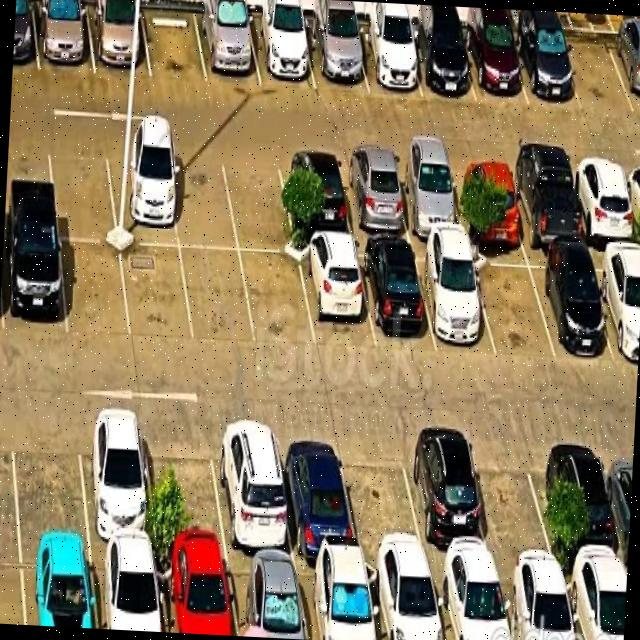Car: (404, 413, 496, 543), (273, 422, 366, 548), (3, 176, 76, 326), (215, 411, 292, 552), (538, 431, 626, 553), (374, 528, 462, 640), (421, 220, 496, 350), (436, 532, 525, 640), (538, 237, 620, 351), (19, 524, 108, 629), (168, 530, 255, 636), (231, 544, 327, 640), (515, 128, 594, 242), (89, 404, 158, 534), (295, 230, 376, 338), (505, 548, 600, 640), (356, 233, 436, 341), (121, 118, 187, 240), (407, 4, 489, 102), (96, 525, 170, 632), (400, 126, 470, 238), (314, 542, 389, 640), (284, 142, 360, 236), (343, 128, 408, 230), (565, 538, 628, 640), (571, 146, 640, 239), (307, 0, 374, 92), (464, 154, 526, 252), (460, 8, 530, 94), (520, 10, 584, 104), (90, 0, 157, 87), (259, 0, 322, 91), (198, 0, 263, 87), (364, 2, 428, 89), (28, 0, 102, 75), (601, 242, 640, 362), (605, 442, 634, 538), (12, 0, 49, 75), (616, 15, 640, 108), (624, 153, 640, 251)
Free: (108, 224, 212, 342), (165, 236, 268, 354), (235, 231, 332, 355), (473, 244, 567, 370), (3, 434, 103, 546), (474, 434, 562, 558), (54, 224, 139, 345), (337, 440, 429, 550), (148, 433, 232, 542), (40, 150, 130, 248), (169, 143, 244, 260), (218, 158, 302, 252), (566, 17, 636, 123), (138, 0, 206, 80)
